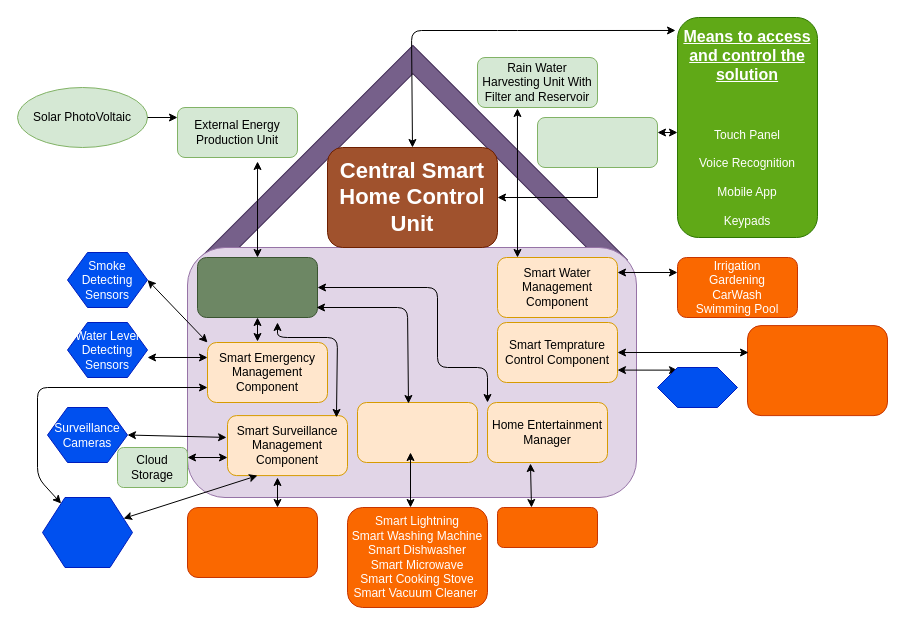
This 905x625 diagram has some shape labels left out. The shapes that lost their labels are listed below. From the top down, each one's centre as x and y in pixels, then its label:
At (x=597, y=142): "Intelligent Voice Assistant (Amazon Alexa,Google Home)".
At (x=257, y=287): "Smart Energy Management Component".
At (x=697, y=387): "Thermostats".
At (x=817, y=370): "Air Conditioning (Heating and Cooling) Smart Window blinds".
At (x=417, y=432): "HouseHold appliance Manager".
At (x=87, y=532): "House Alarms".
At (x=252, y=542): "Main Gate Access Control Door Access Control Window Access Control".
At (x=547, y=527): "Home Theatre Multi Room Audio".
